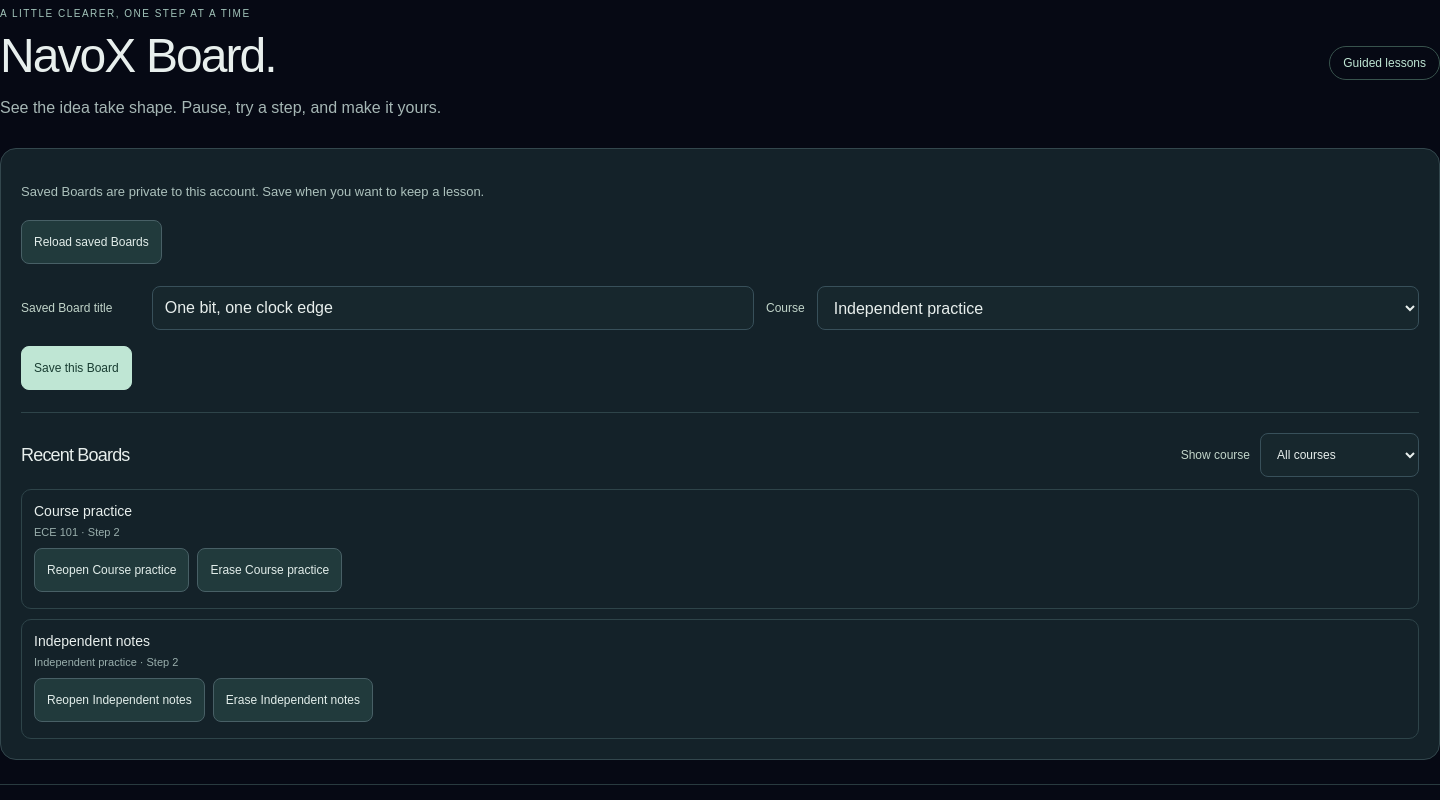
Test: saved authored Boards › filters recent Boards by owned course without guessing a course for independent practice
Check: the dropdown with id "board-save-course" shows "Independent practice", box [817, 286, 1419, 330]
Select "ECE 101" in the dropdown named "Filter saved Boards by course" at x=1340, y=455, box [1260, 433, 1419, 477]
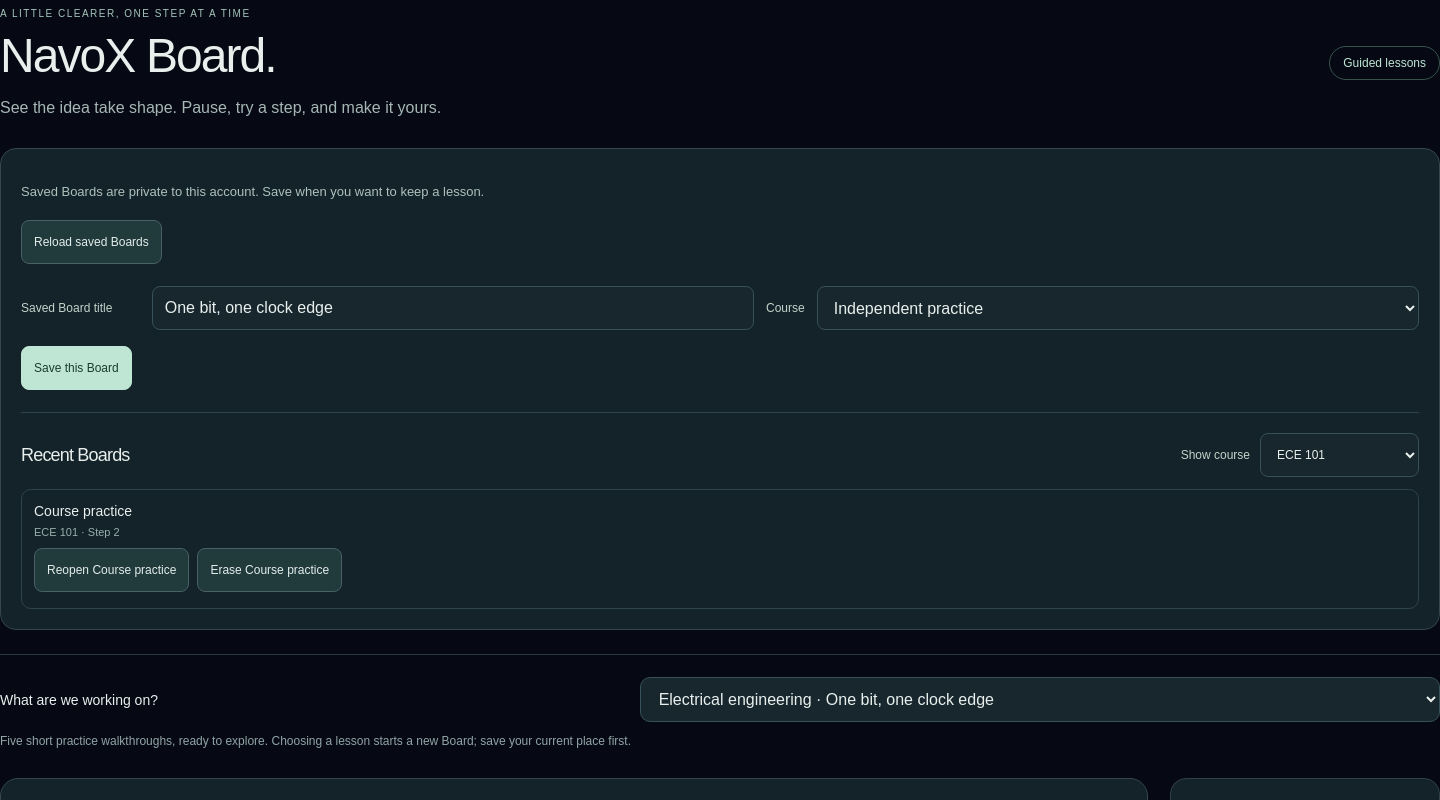
Check: the text "Course practice" is shown, box [34, 503, 132, 519]
Check: the text "Independent notes" is gone
Select "Independent practice" in the dropdown named "Filter saved Boards by course" at x=1340, y=455, box [1260, 433, 1419, 477]
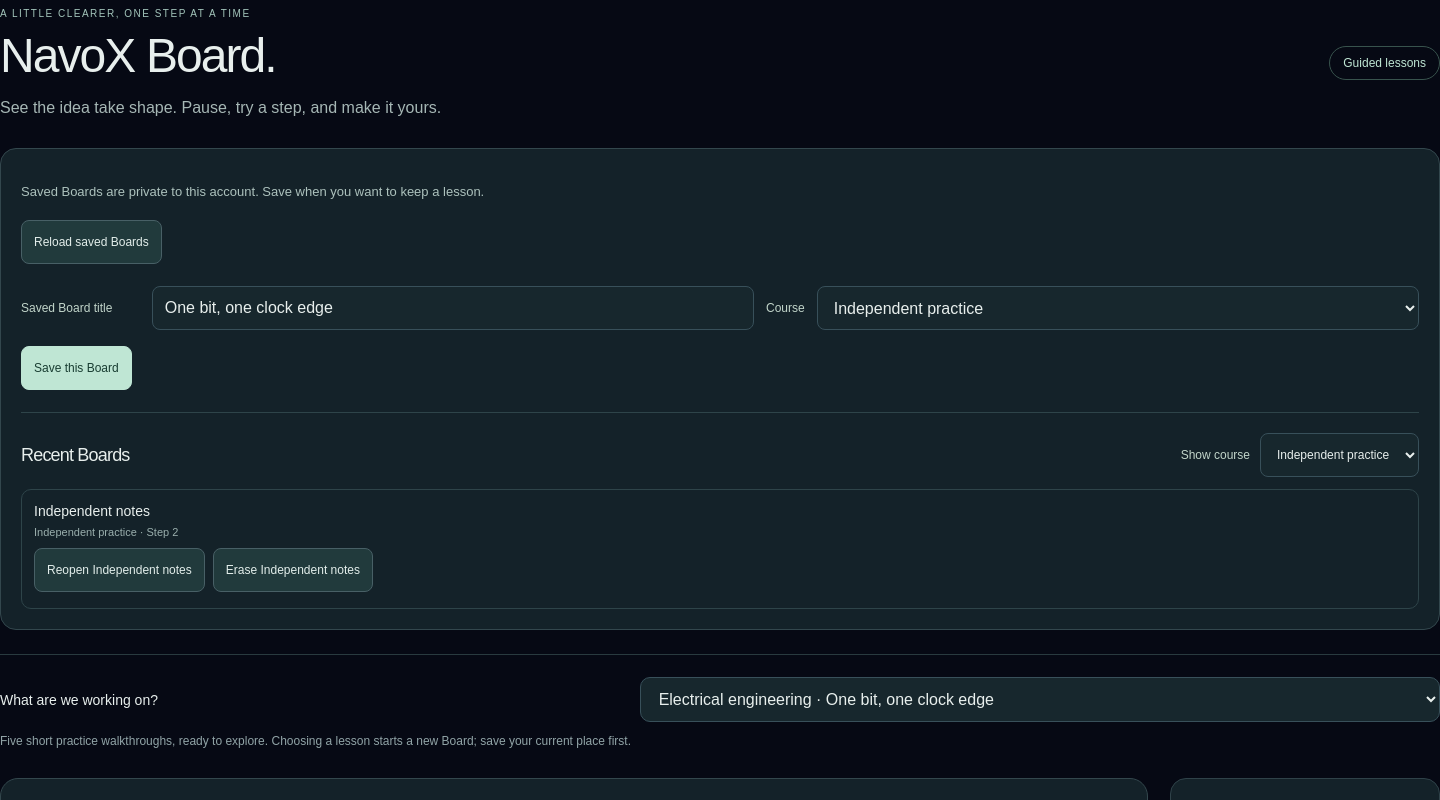
Check: the text "Course practice" is gone
Check: the text "Independent notes" is shown, box [34, 503, 150, 519]
